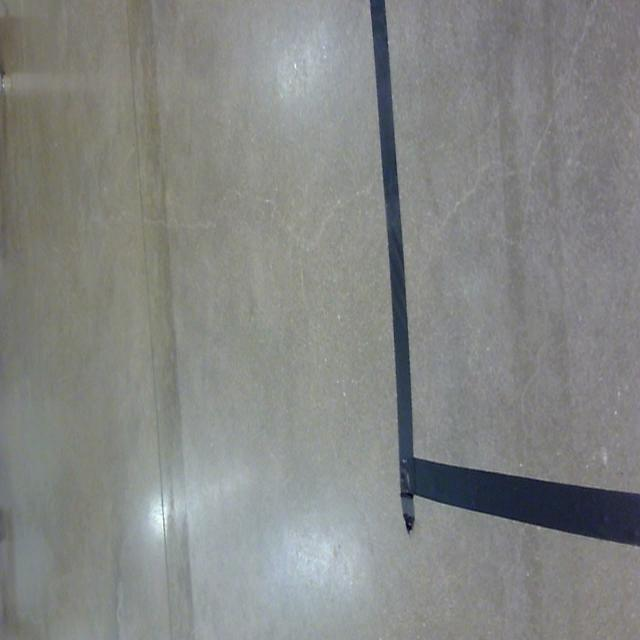tape: (357, 0, 640, 570)
